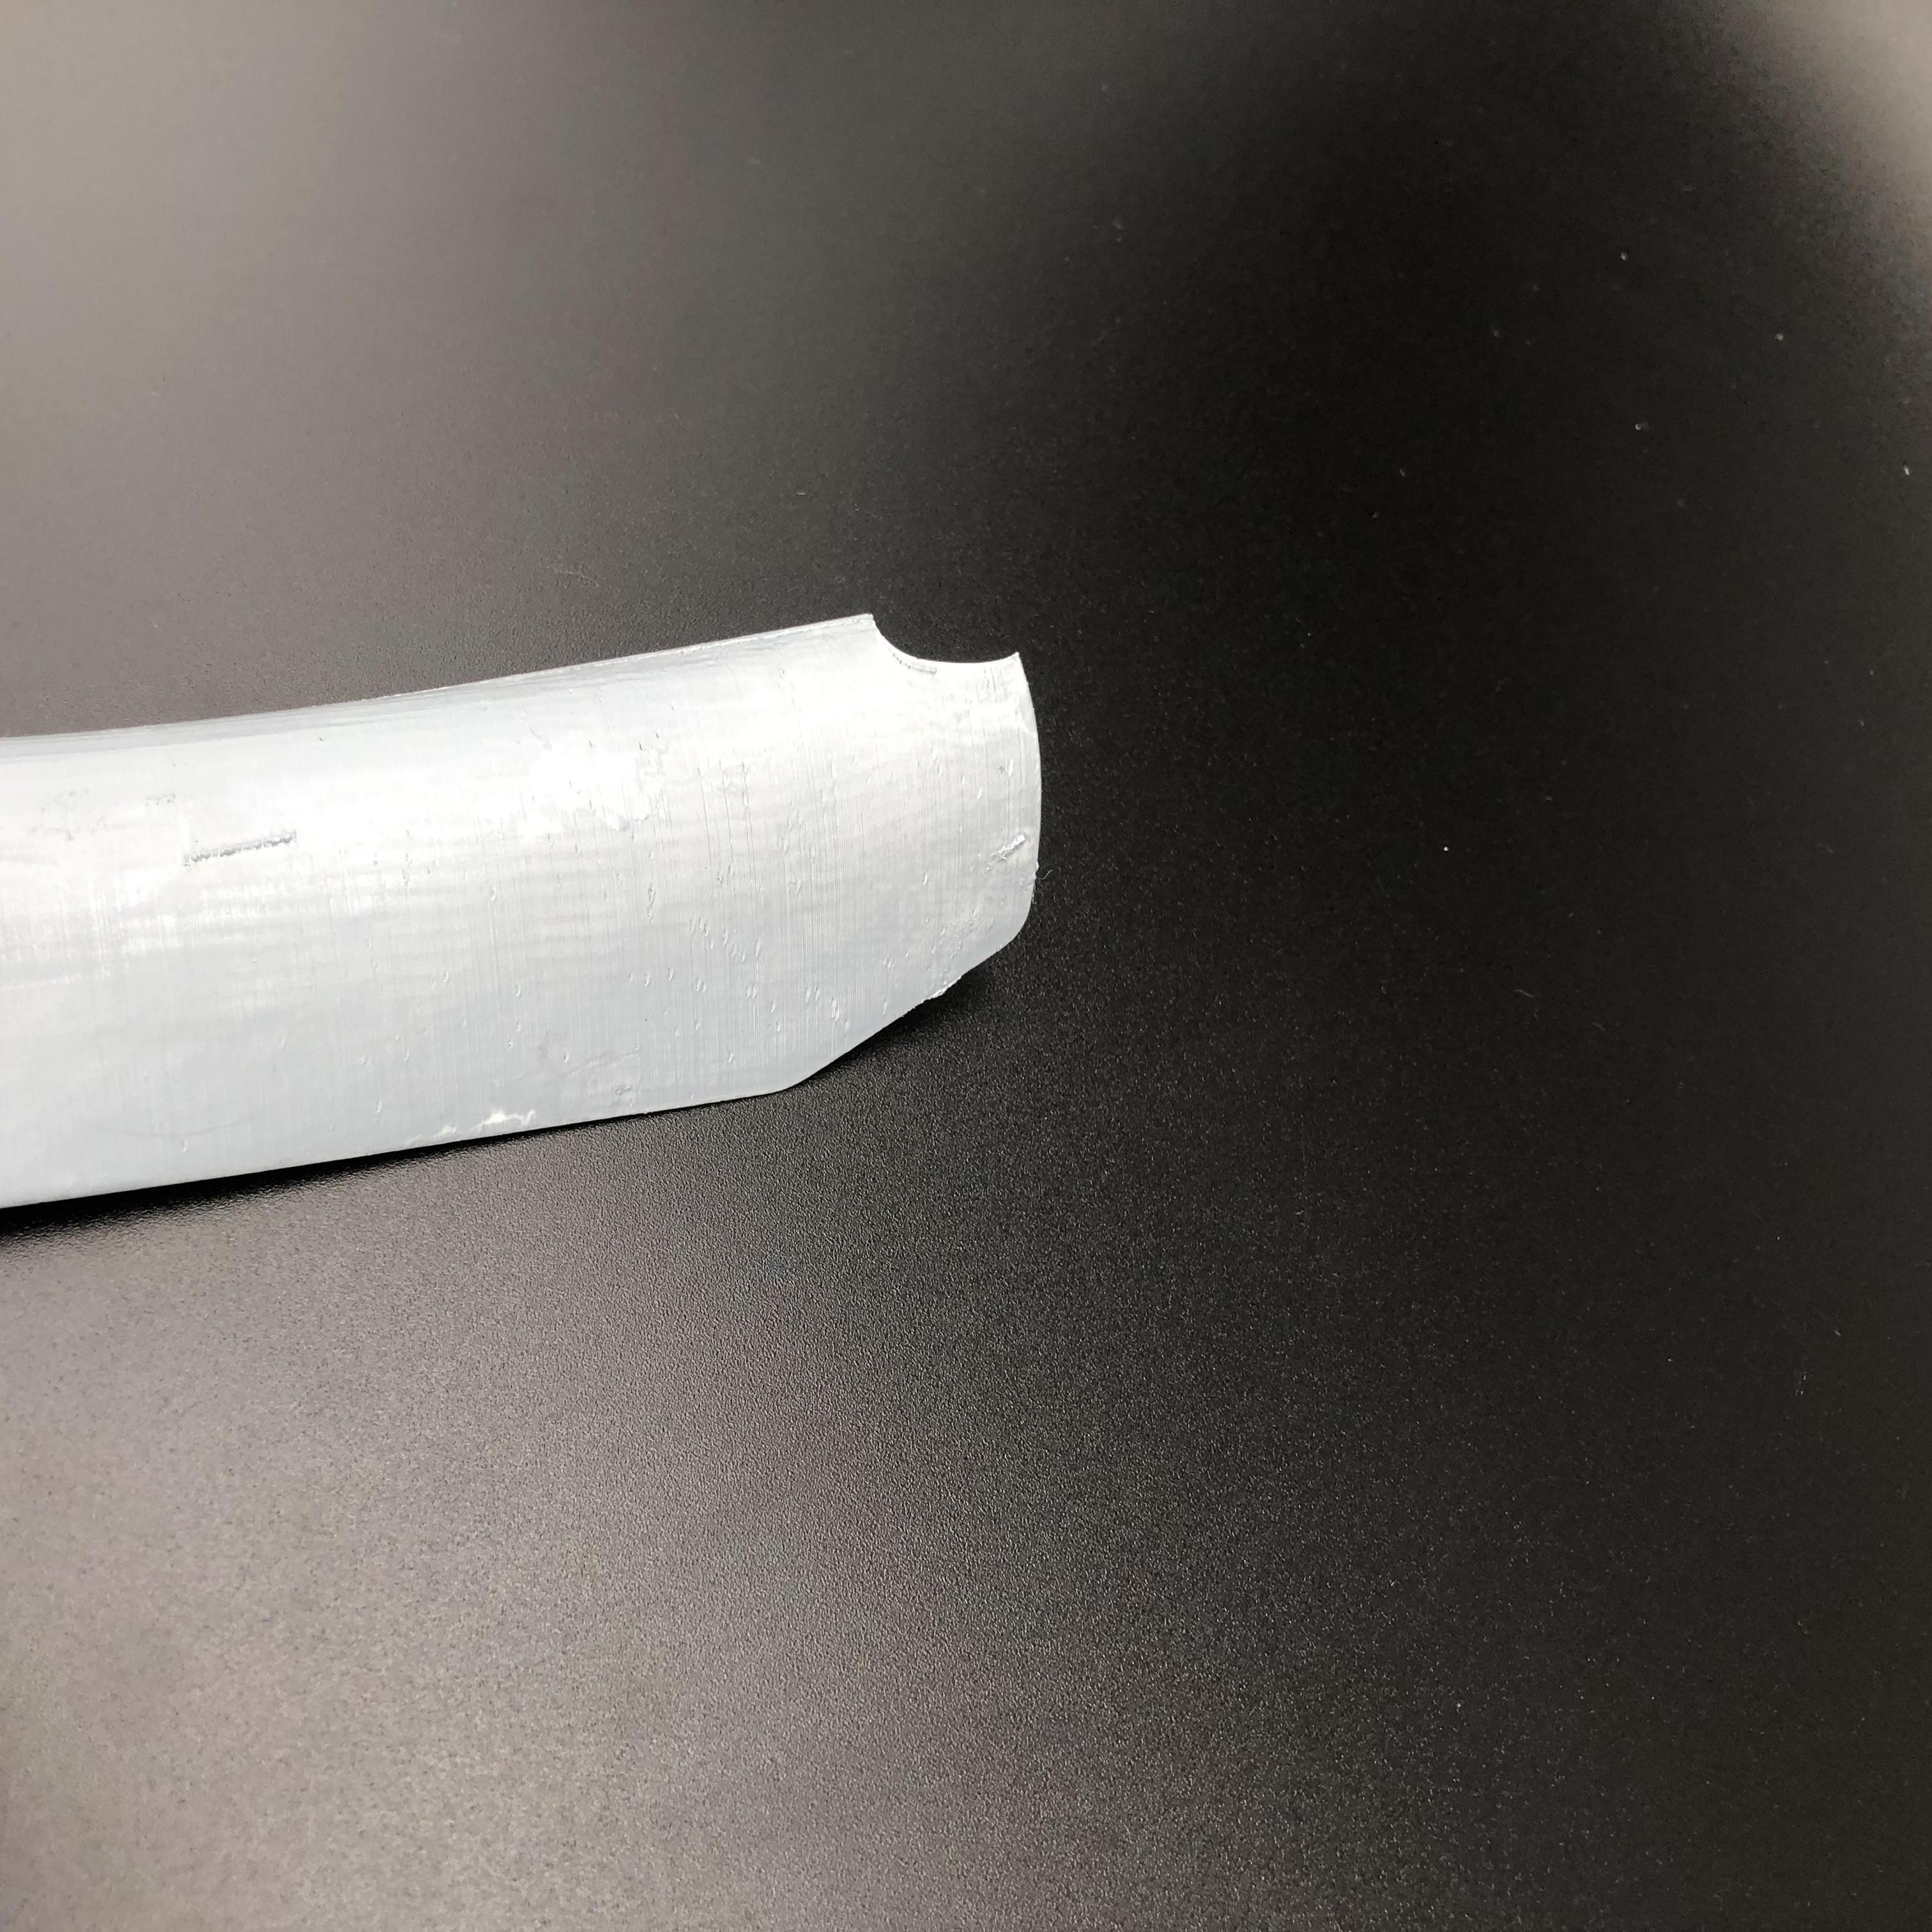fracture: (821, 610, 1035, 679)
